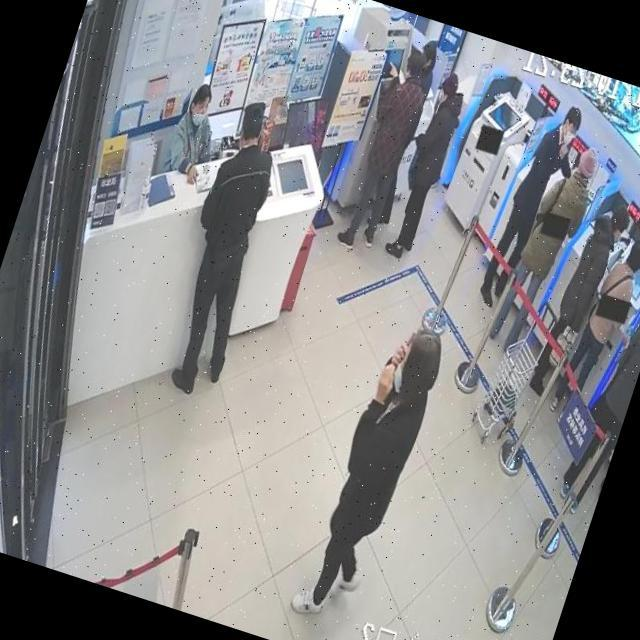person: (290, 314, 453, 632), (145, 96, 304, 400), (484, 135, 606, 362), (473, 96, 594, 320), (470, 98, 591, 320), (523, 194, 633, 408), (332, 41, 440, 258), (555, 278, 640, 516), (378, 68, 472, 264), (549, 224, 640, 423), (360, 36, 446, 235), (162, 80, 232, 186), (596, 252, 640, 414)
